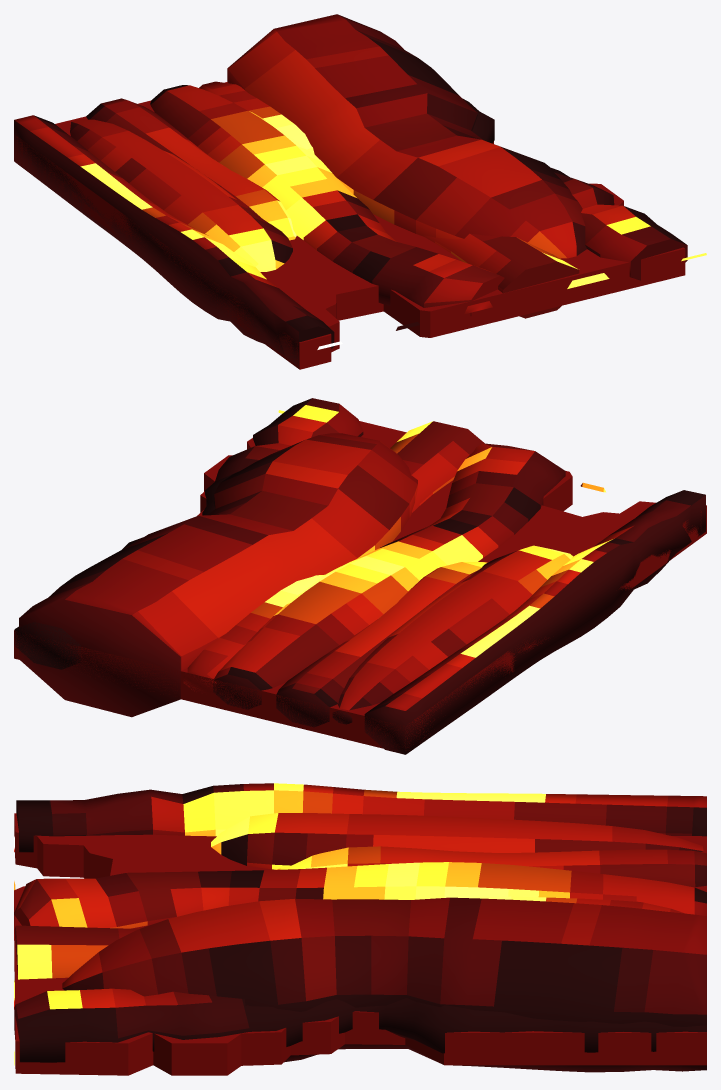
The model's file is newsh3-82.glb.
The picture shows the model from 3 angles, top to bottom: view 1: azimuth 30°, elevation 25°; view 2: azimuth 150°, elevation 25°; view 3: azimuth 270°, elevation 25°; orthographic projection. The views are drawn at different scales.
Parts seen in each view (by area): view 1: newsh3-82; view 2: newsh3-82; view 3: newsh3-82.
Part boxes in pixels (x1,y1,x2,y2): newsh3-82: (14, 14, 706, 369); newsh3-82: (14, 398, 706, 754); newsh3-82: (14, 783, 706, 1075).
Size of the model in its own units: 1.92 by 0.4734 by 2.33.
